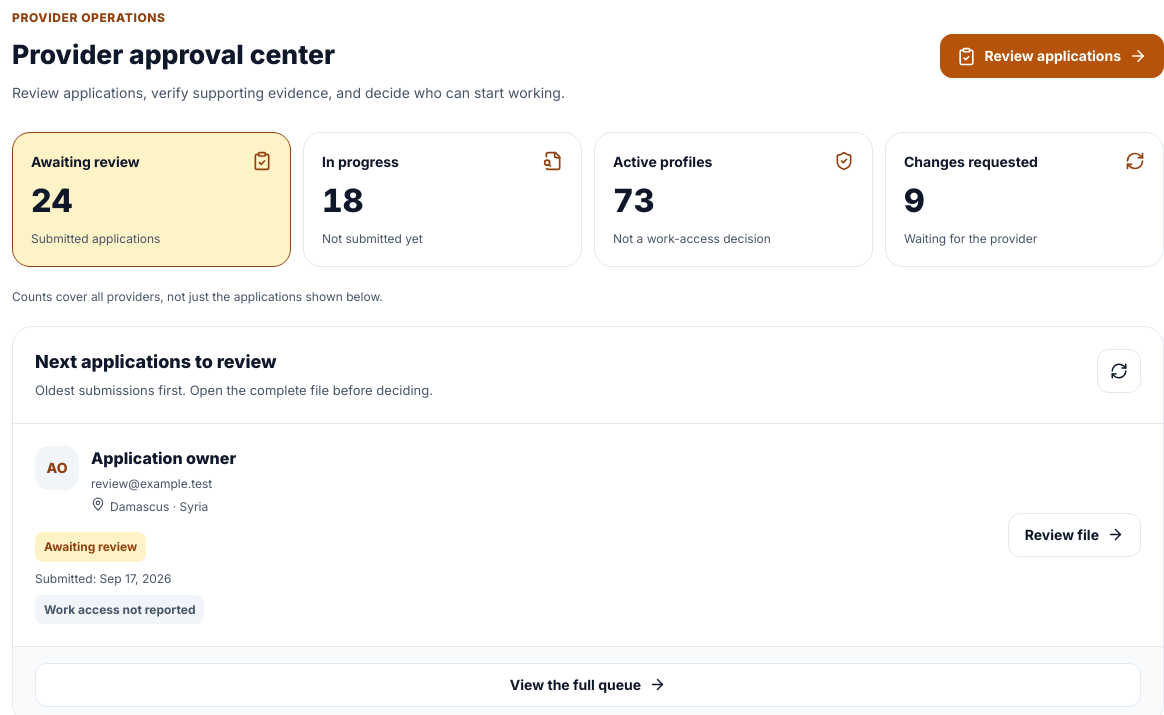
Test: Approval center entry and truthful counts › does not retain stale profile links or totals after HTTP 403
This screenshot has width=1164, height=715.
Expected: the text "Application owner" is shown, [91,448,236,468]
Click the button with test id "approval-refresh" at [1119, 371], box [1097,349,1141,393]
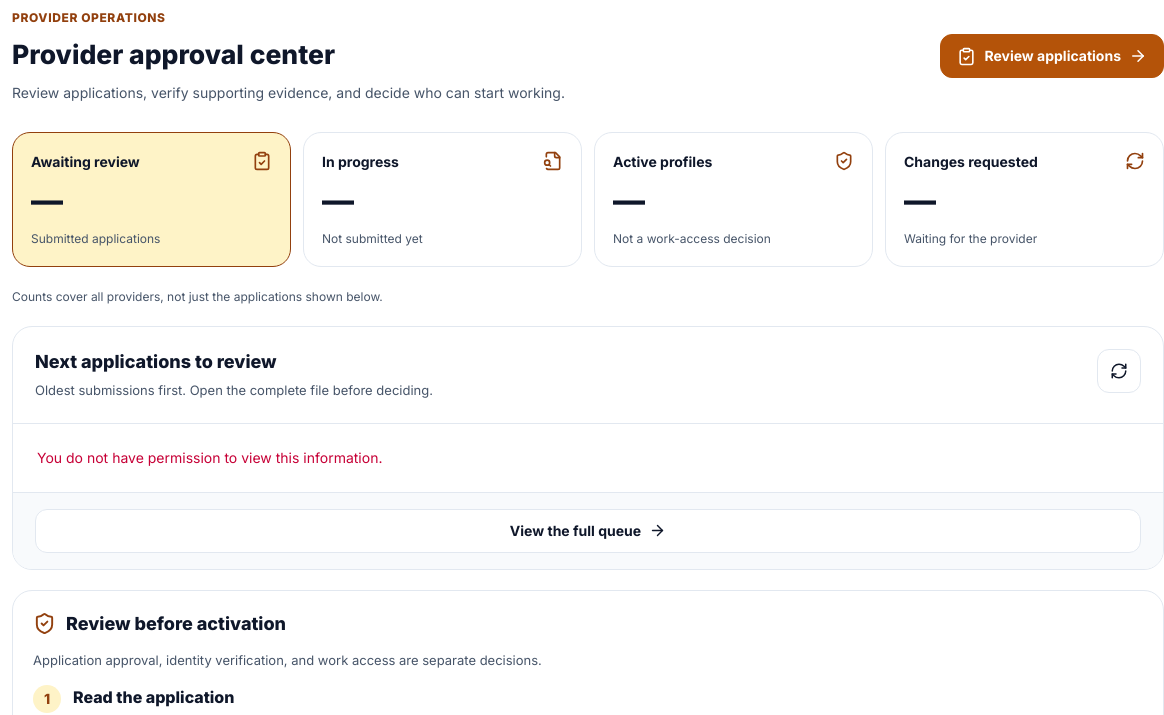
Expected: the text "Application owner" is gone
Expected: the text with test id "approval-count-pendingReview" reads "—", [31,181,63,220]
